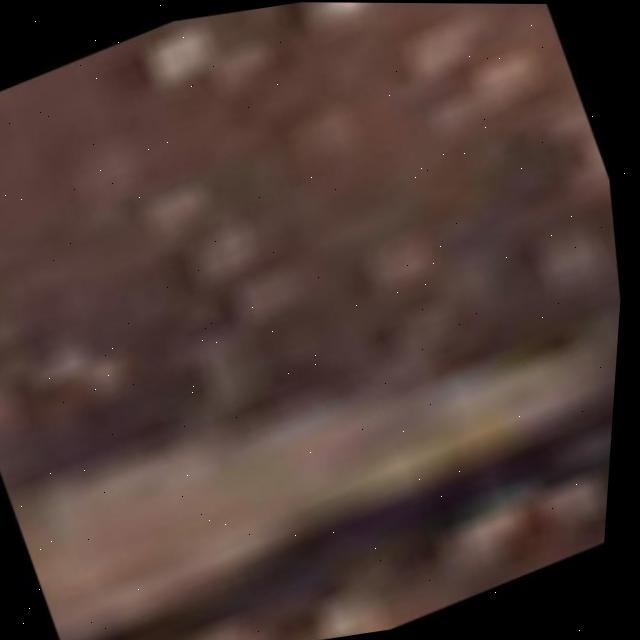Eczema: (0, 0, 639, 445)
